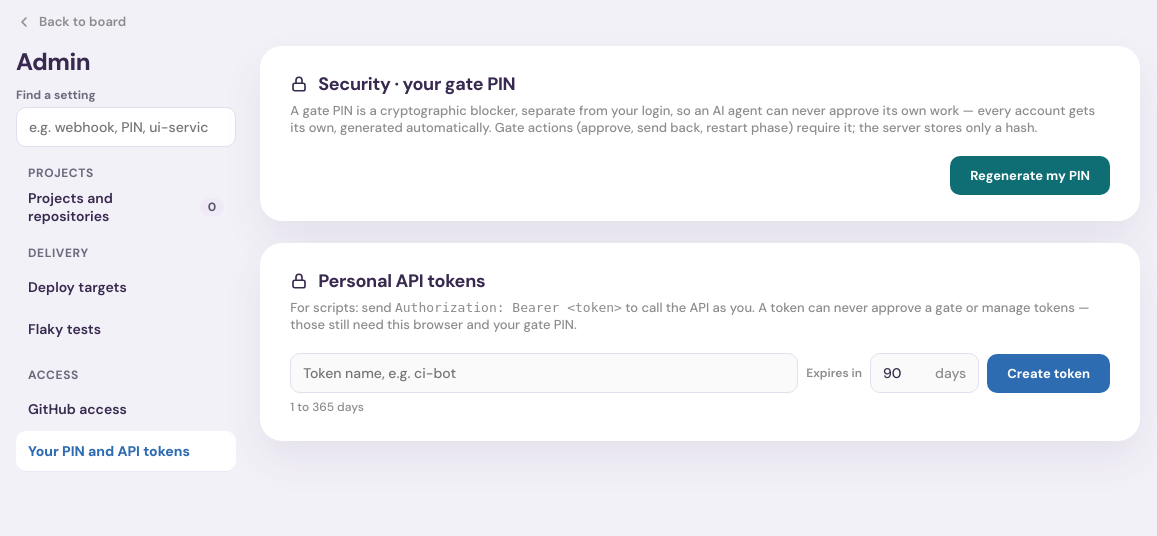
Test case: an out-of-range expiry is refused before any request is made
Type "ci-bot" into the field with placeholder "Token name, e.g. ci-bot" at (544, 373), box [290,353,798,393]
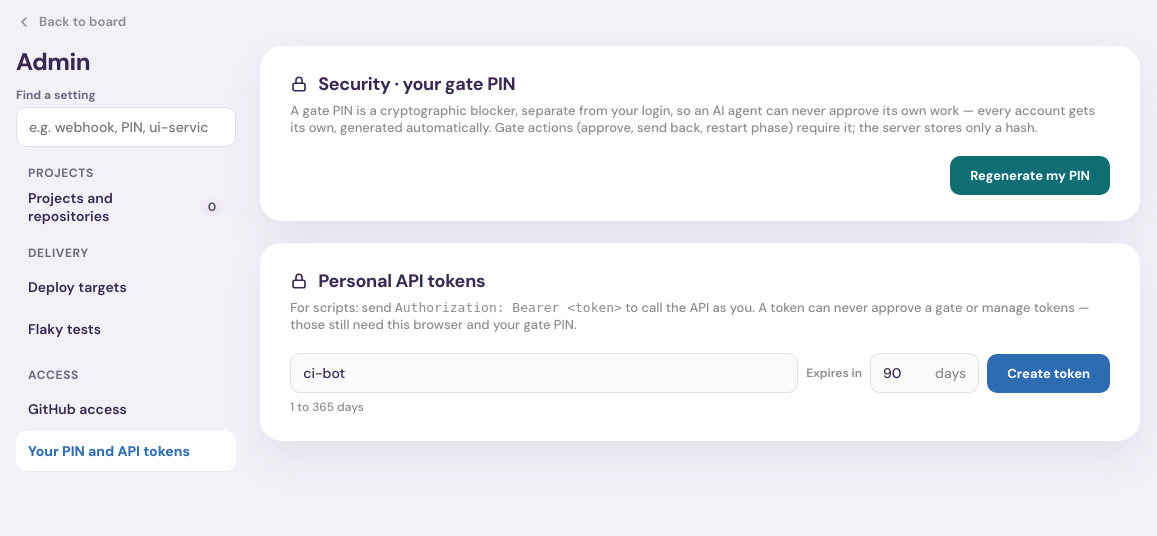
Replace the text in the number field named "Expires in days" with "366" at (903, 373), box [871,354,935,392]
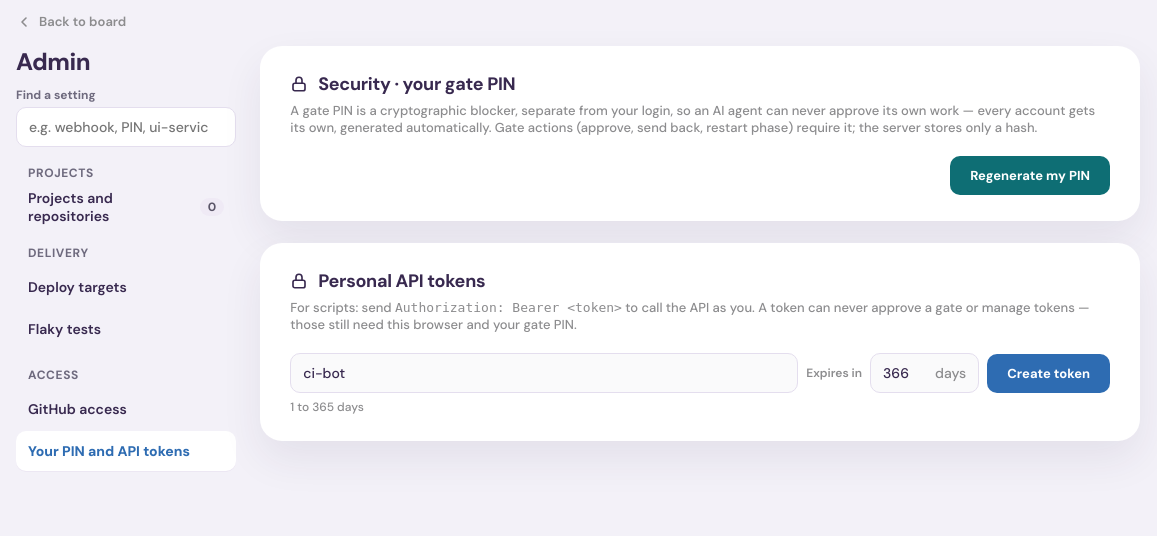
Click the button "Create token" at (1049, 373), box [987,354,1110,392]
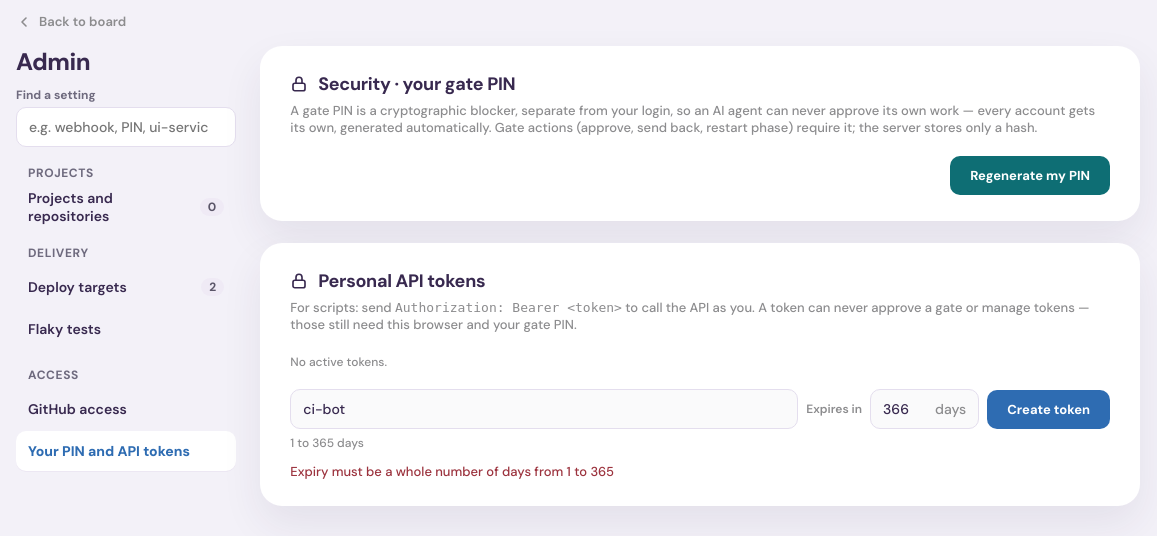
Result: the text "Expiry must be a whole number of days from 1 to 365" is shown at [290,463,614,480]
